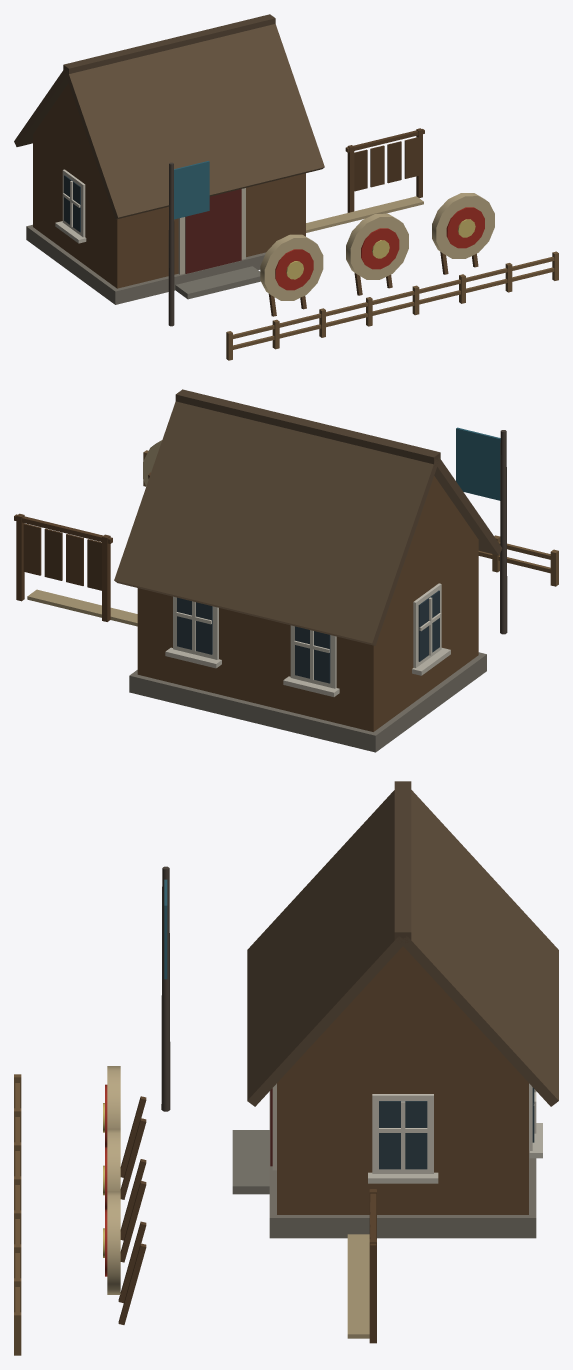
Rendered from procedural_archery@3.glb.
The picture shows the model from 3 angles, top to bottom: view 1: azimuth 30°, elevation 25°; view 2: azimuth 150°, elevation 25°; view 3: azimuth 270°, elevation 25°; orthographic projection. The views are drawn at different scales.
Parts seen in each view (by area): view 1: part_0; view 2: part_0; view 3: part_0.
Part boxes in pixels (x1,y1,x2,y2): part_0: (14,14,558,360); part_0: (14,389,558,752); part_0: (14,781,558,1355).
Bounding box in the file's own units: 8.46 × 4.65 × 7.35.
